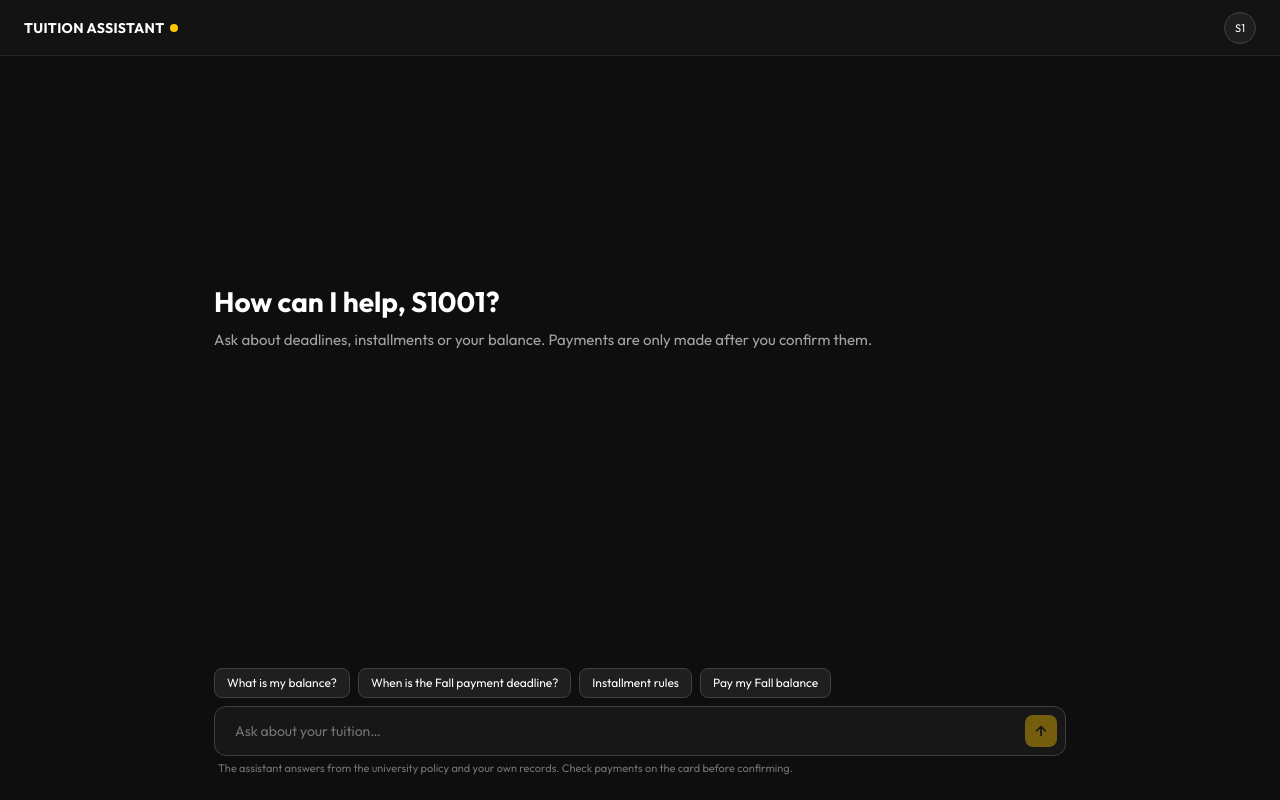
chat screen › shows the confirmation card and pays only after Confirm
In the text box named "Message": x=624, y=731 [235,715,1013,747], type "Pay $500 of my Fall tuition"
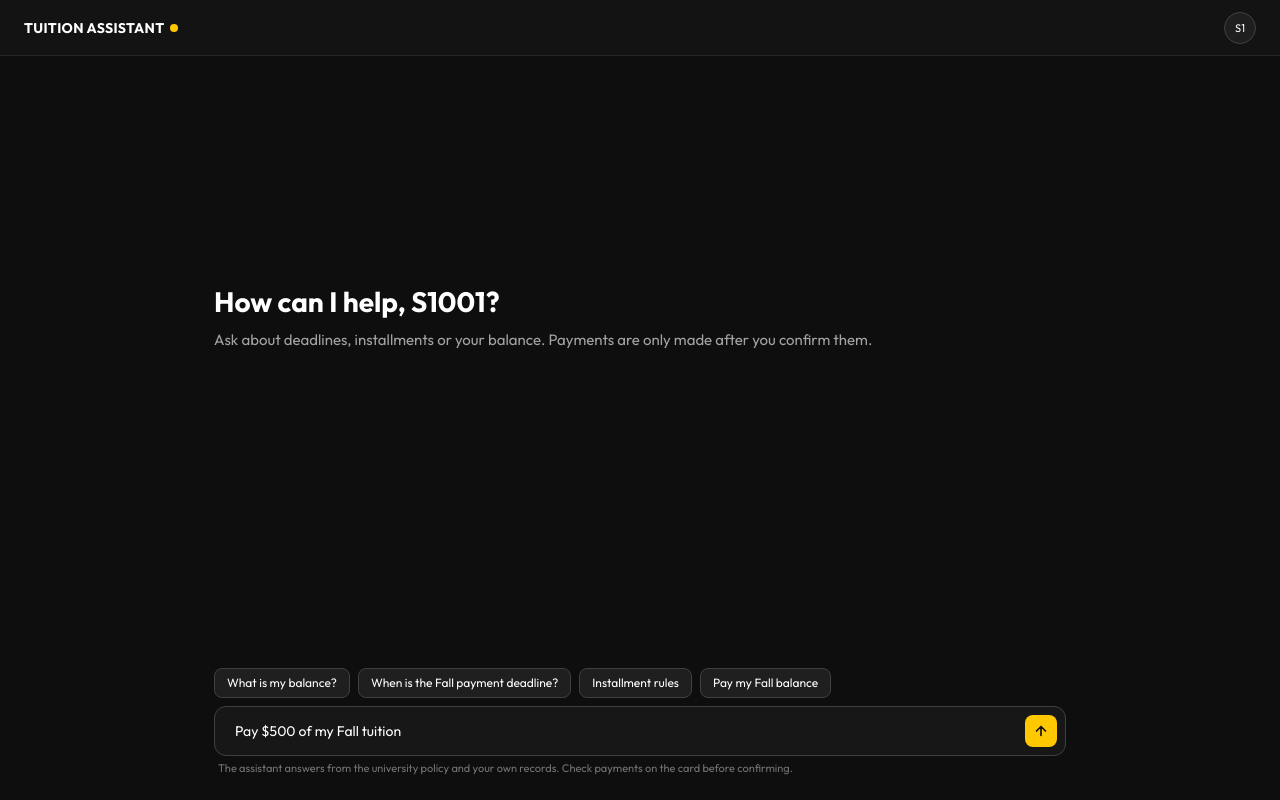
Press Enter in the text box named "Message", box [235,715,1013,747]
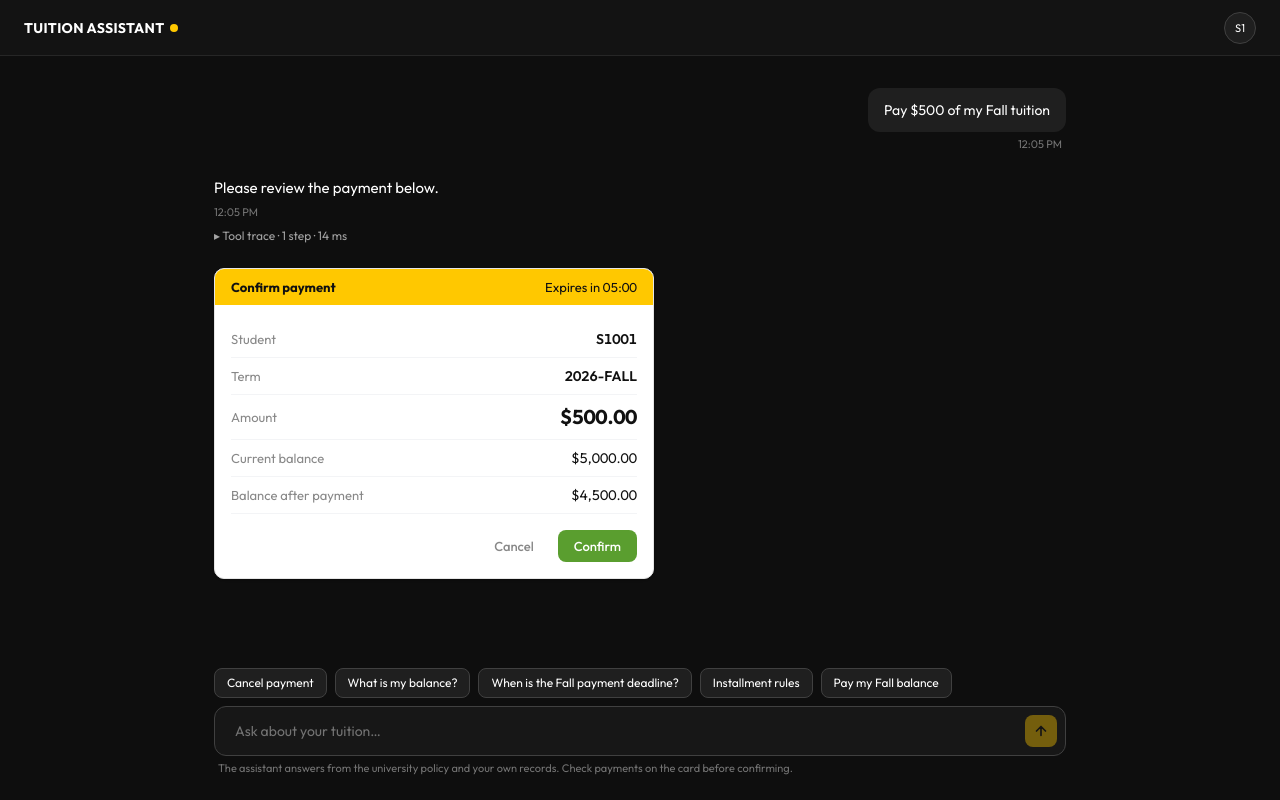
Check: the text "$500.00" is shown, box [560,403,637,431]
Check: the text "$4,500.00" is shown, box [571,485,637,505]
Check: the text "Expires in 05:00" is shown, box [545,277,637,297]
Click the button "Confirm": x=597, y=546 [558,530,637,562]
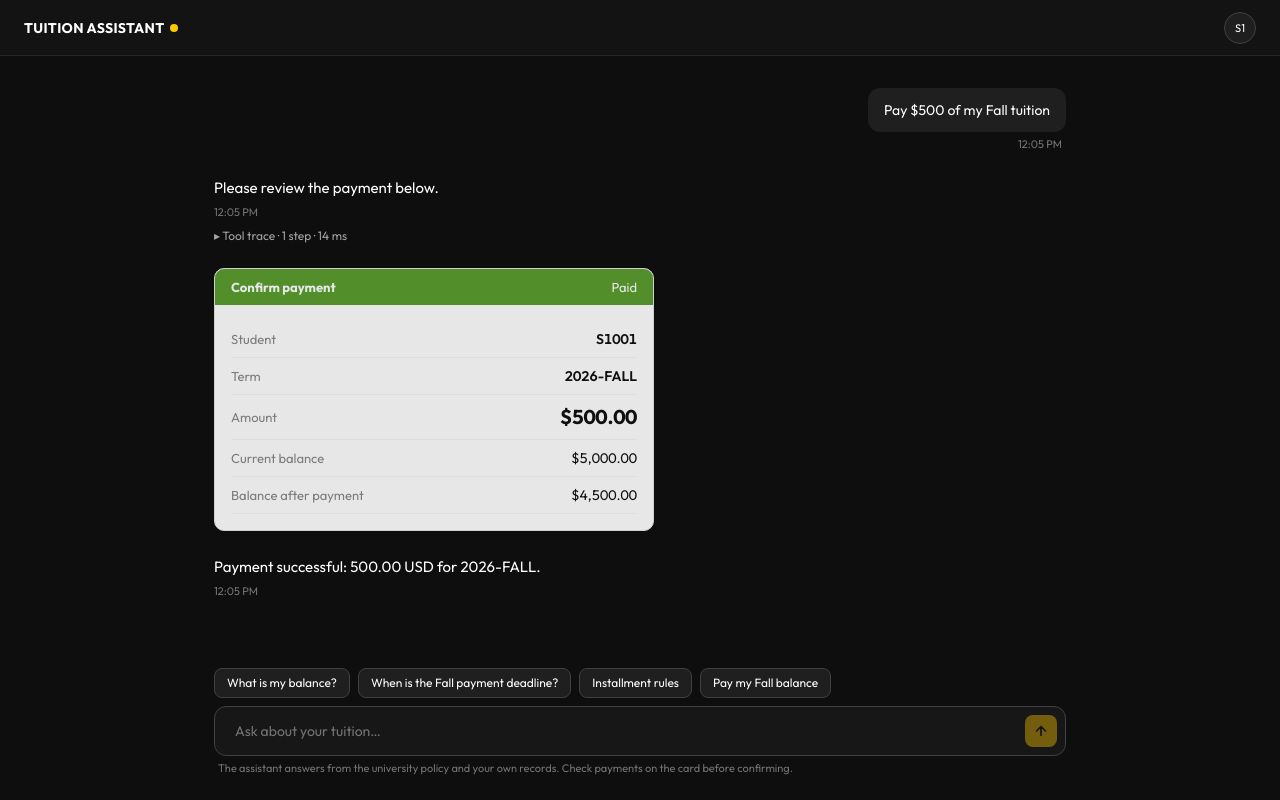
Check: the text "Payment successful: 500.00 USD for 2026-FALL." is shown, box [214,557,541,576]
Check: the text "Paid" is shown, box [611,277,637,297]
